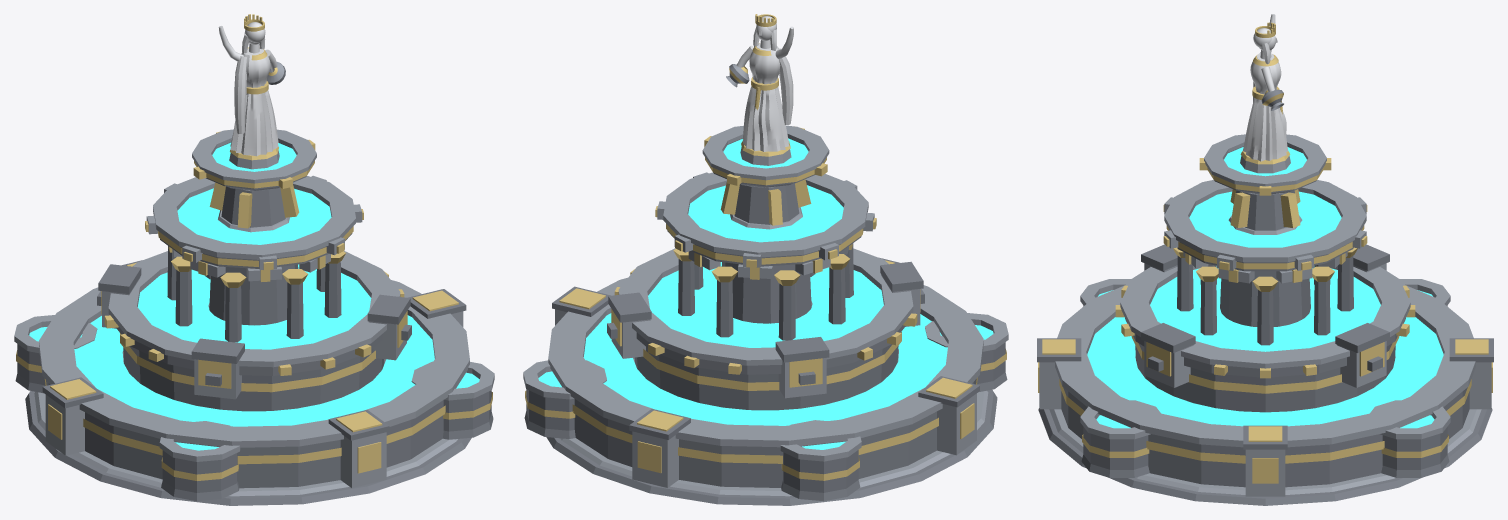
File: GoddessFountain.fbx
The picture shows the model from 3 angles, left to right: view 1: azimuth 30°, elevation 25°; view 2: azimuth 150°, elevation 25°; view 3: azimuth 270°, elevation 25°; orthographic projection. The views are drawn at different scales.
Visible parts, largest first — view 1: Fountain_Base_And_Tiers, Water_Surface_Meshes, Goddess_Statue; view 2: Fountain_Base_And_Tiers, Water_Surface_Meshes, Goddess_Statue; view 3: Fountain_Base_And_Tiers, Water_Surface_Meshes, Goddess_Statue.
Part boxes in pixels (x1=…): Fountain_Base_And_Tiers: x1=14, y1=129, x2=494, y2=505; Water_Surface_Meshes: x1=29, y1=142, x2=479, y2=450; Goddess_Statue: x1=218, y1=14, x2=285, y2=156; Fountain_Base_And_Tiers: x1=523, y1=125, x2=1008, y2=505; Water_Surface_Meshes: x1=538, y1=138, x2=993, y2=449; Goddess_Statue: x1=726, y1=14, x2=793, y2=151; Fountain_Base_And_Tiers: x1=1037, y1=134, x2=1493, y2=505; Water_Surface_Meshes: x1=1087, y1=147, x2=1443, y2=428; Goddess_Statue: x1=1243, y1=14, x2=1288, y2=161.
Bounding box in the file's own units: 25.35 × 23.59 × 25.35.
